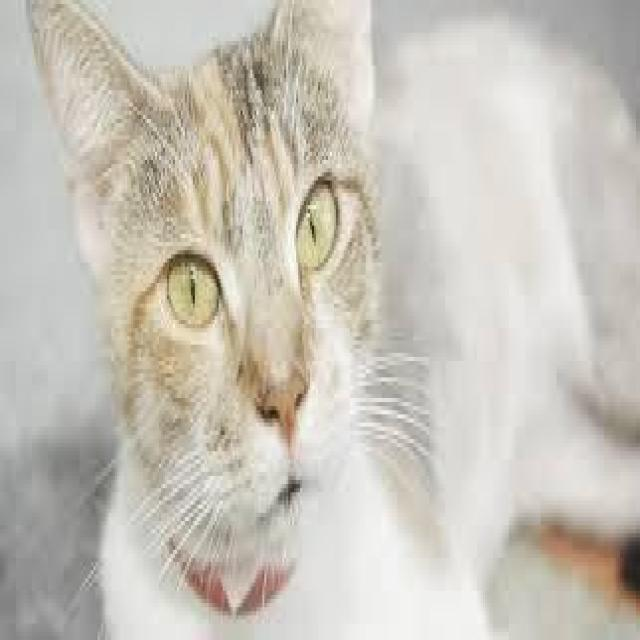Cat: (18, 0, 394, 604)
